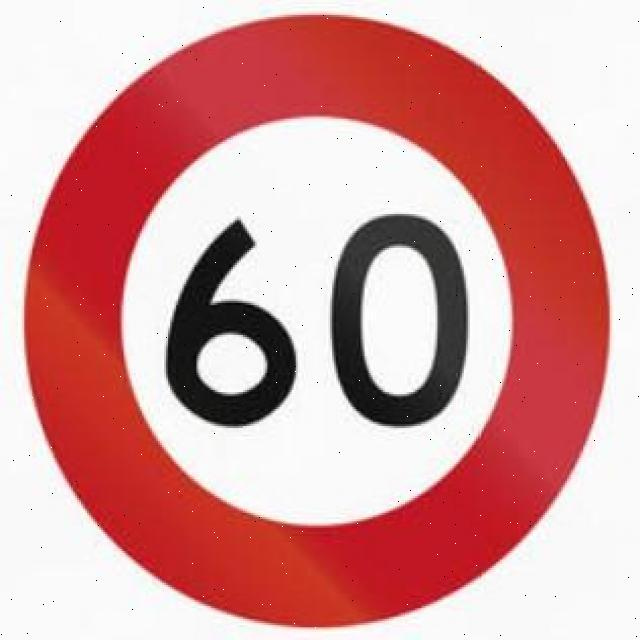speed limit 60: (22, 16, 609, 623)
